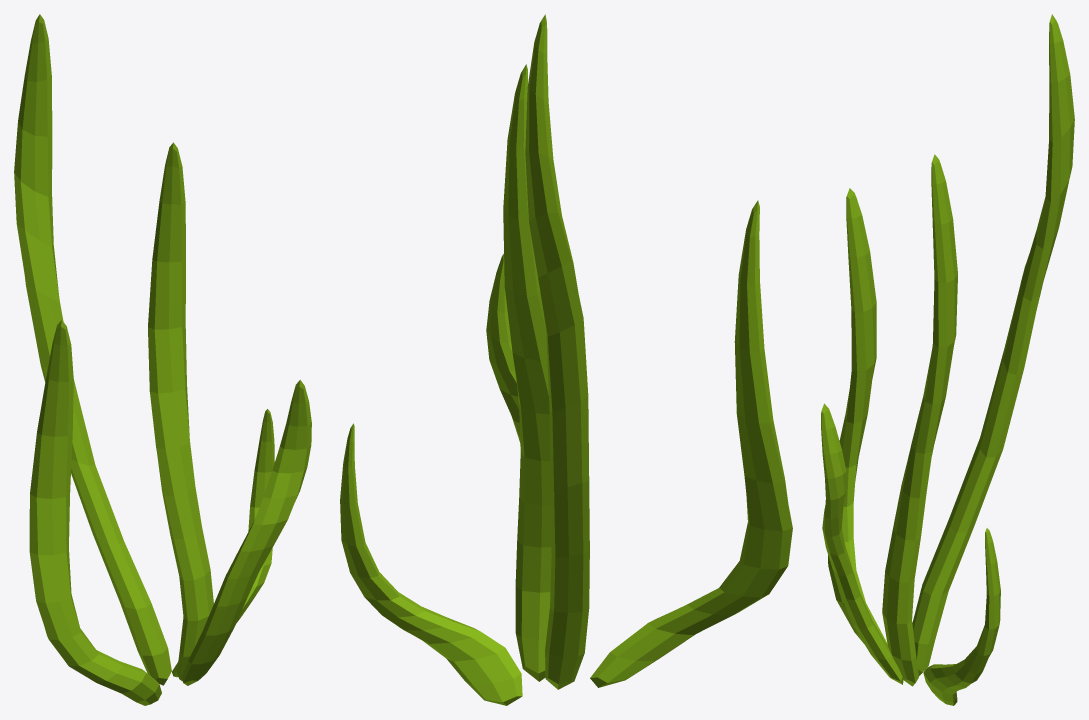
File: kelp.glb
The picture shows the model from 3 angles, left to right: view 1: azimuth 30°, elevation 25°; view 2: azimuth 150°, elevation 25°; view 3: azimuth 270°, elevation 25°; orthographic projection. The views are drawn at different scales.
Parts seen in each view (by area): view 1: Kelp; view 2: Kelp; view 3: Kelp.
Part boxes in pixels (box(x1,y1,x2,y2)): Kelp: box(14, 14, 311, 705); Kelp: box(340, 14, 792, 705); Kelp: box(821, 14, 1074, 705).
Bounding box in the file's own units: 4.37 × 8.69 × 3.1.
